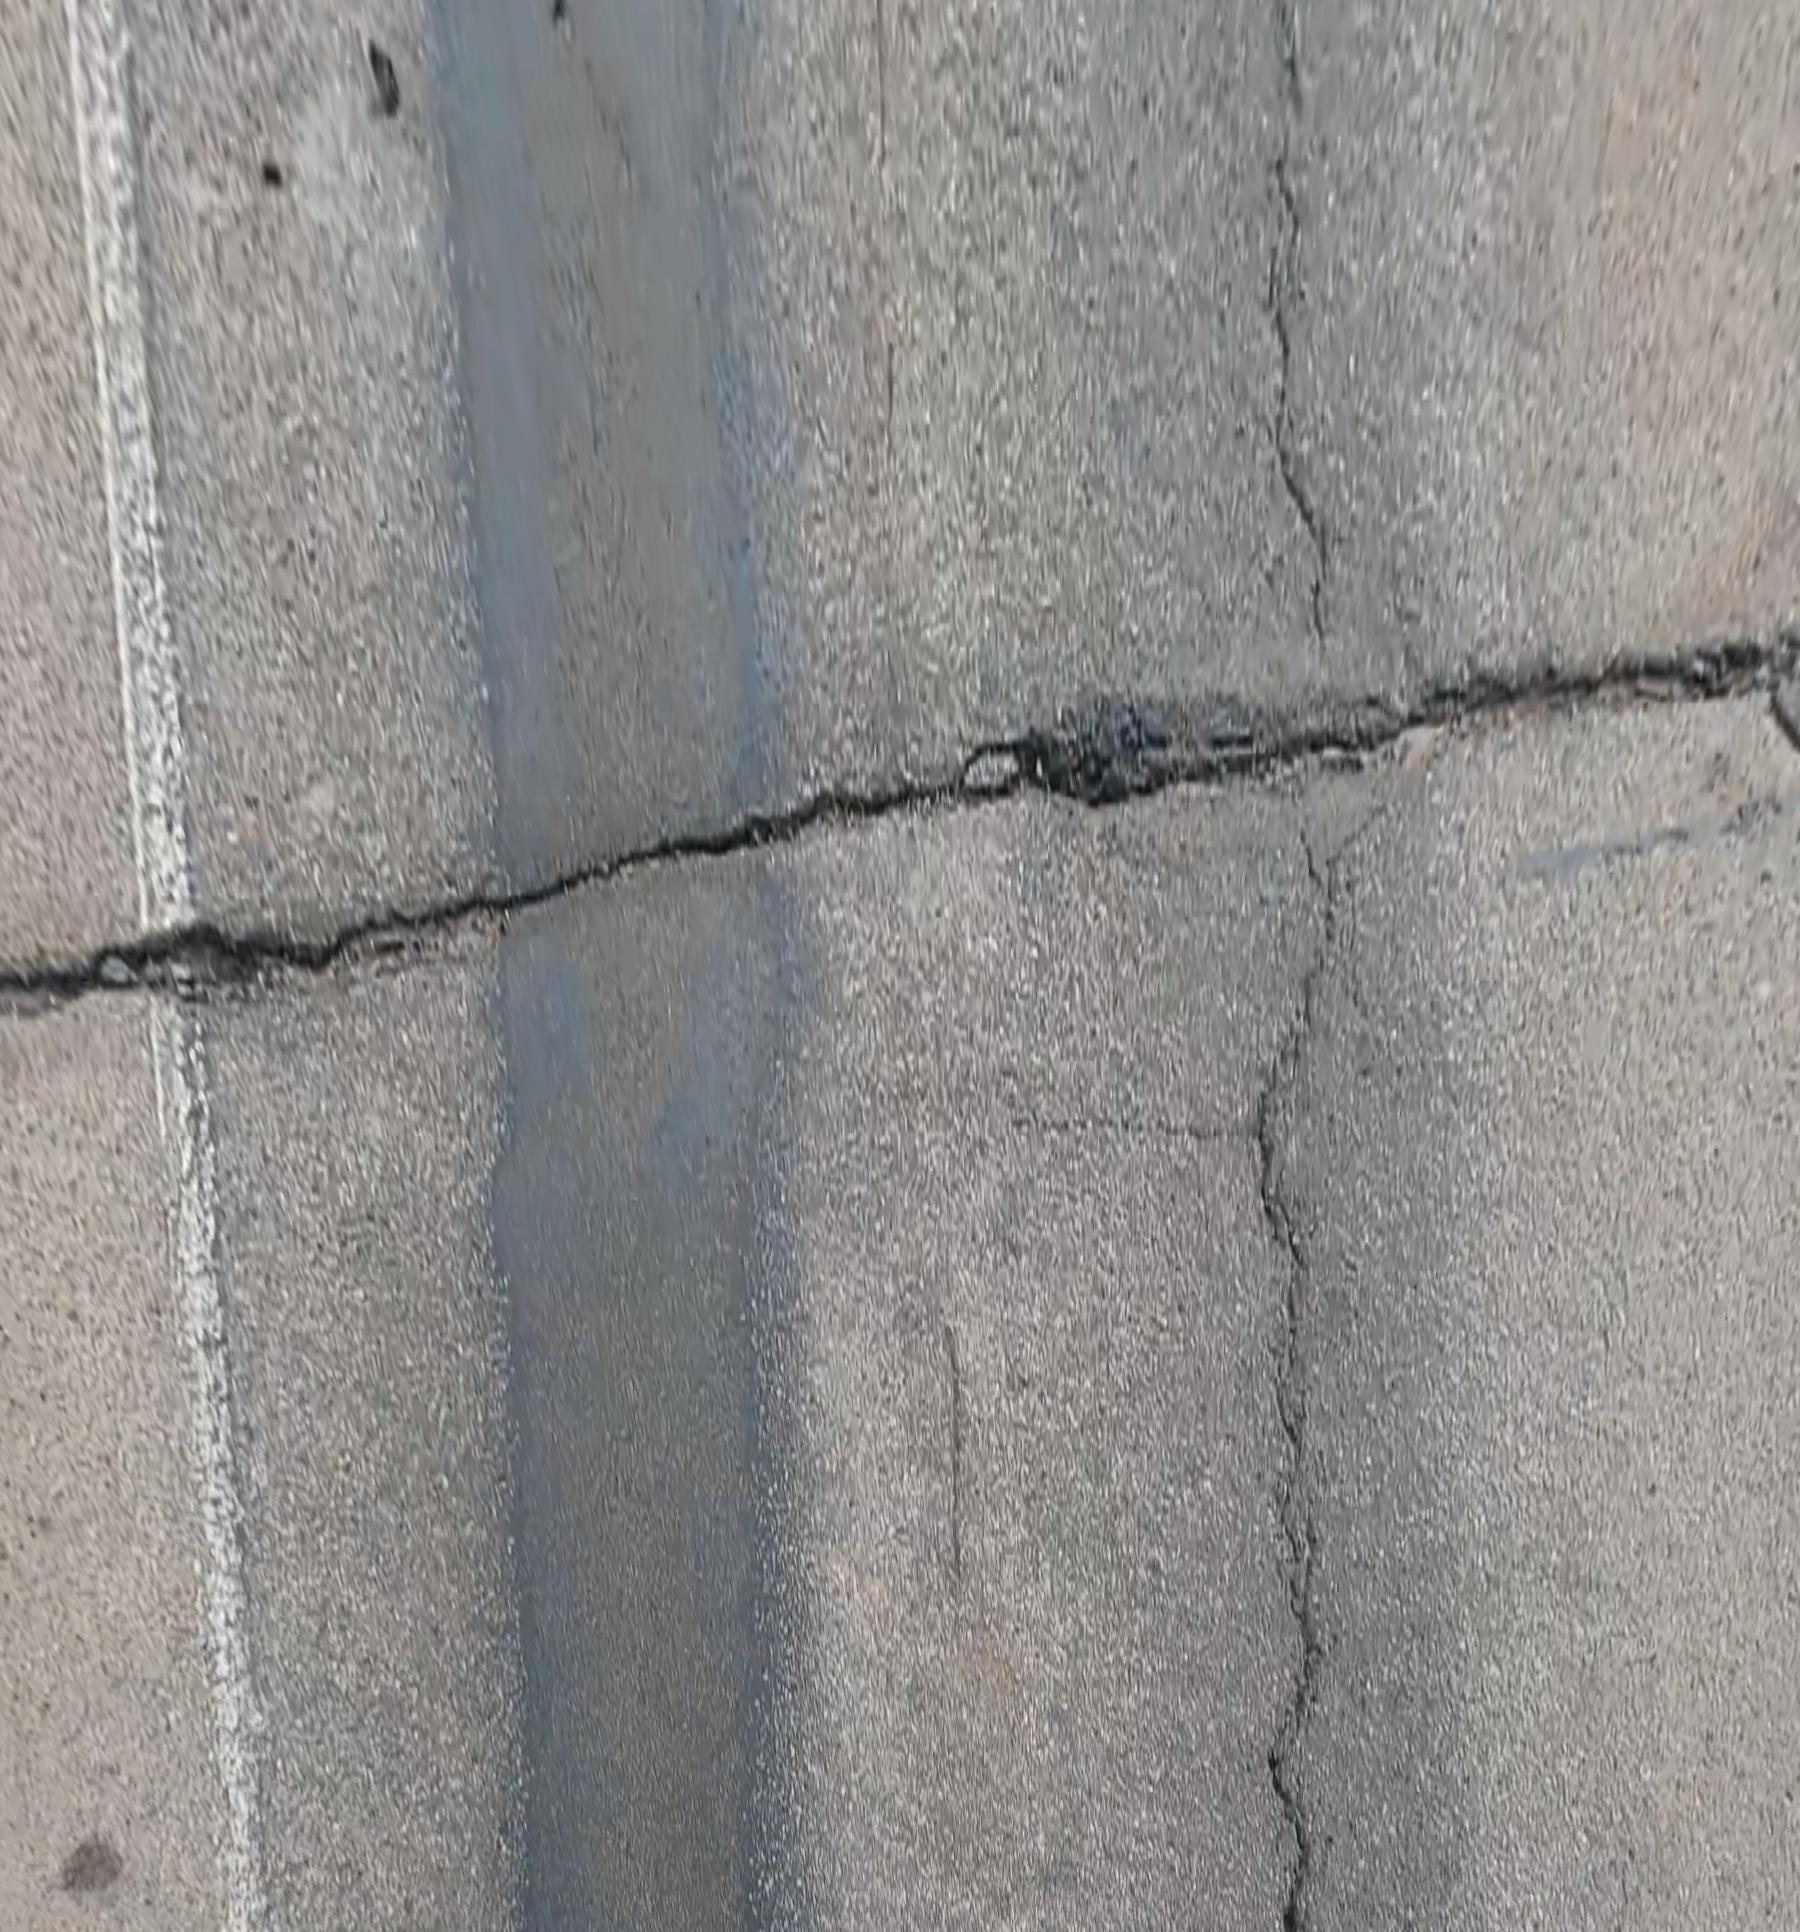pothole: (958, 629, 1800, 804), (2, 903, 506, 1010)
pothole_patch_good: (491, 859, 778, 1932), (428, 0, 765, 881)
